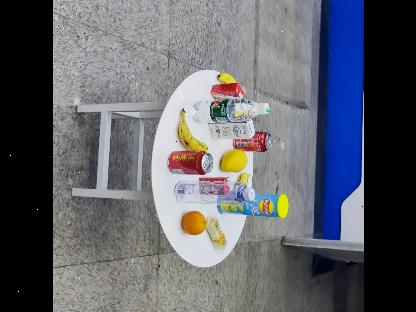Can: (164, 150, 216, 174), (232, 135, 272, 151)
Others: (212, 192, 286, 218)
Plastic Bottle: (186, 100, 268, 125), (172, 180, 252, 204)
